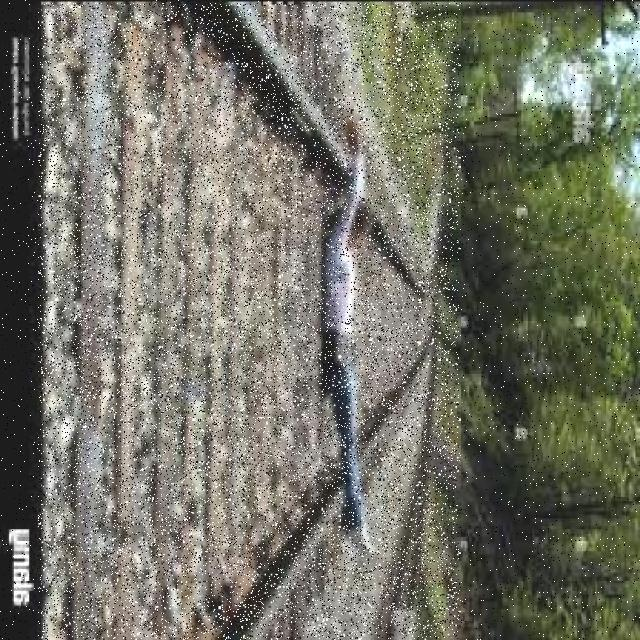danger: (314, 98, 372, 557)
rail: (39, 3, 459, 640)
